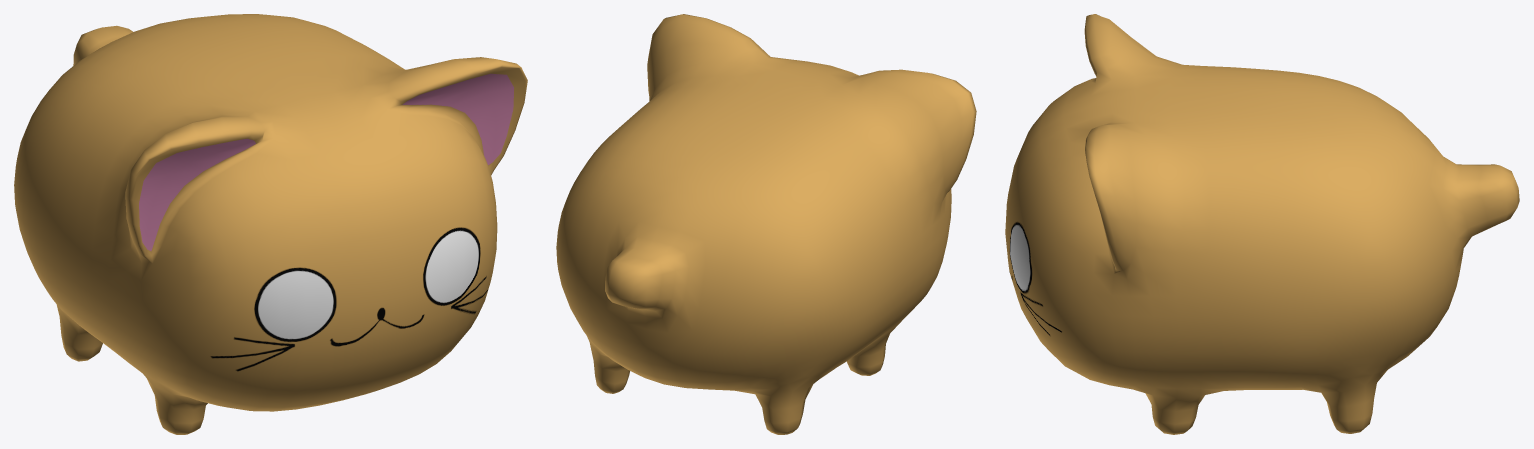
The model's file is Puufy Cat.fbx.
3 renders of one model, left to right at view 1: azimuth 30°, elevation 25°; view 2: azimuth 150°, elevation 25°; view 3: azimuth 270°, elevation 25°, orthographic. The views are drawn at different scales.
Visible parts, largest first — view 1: Cube; view 2: Cube; view 3: Cube.
Boxes of the visible parts, x1,y1,x2,y2 form: Cube: [14, 14, 527, 434]; Cube: [556, 14, 976, 434]; Cube: [1005, 14, 1519, 434].
Size of the model in its own units: 212 by 176 by 270.
2 materials, 2 textured.
